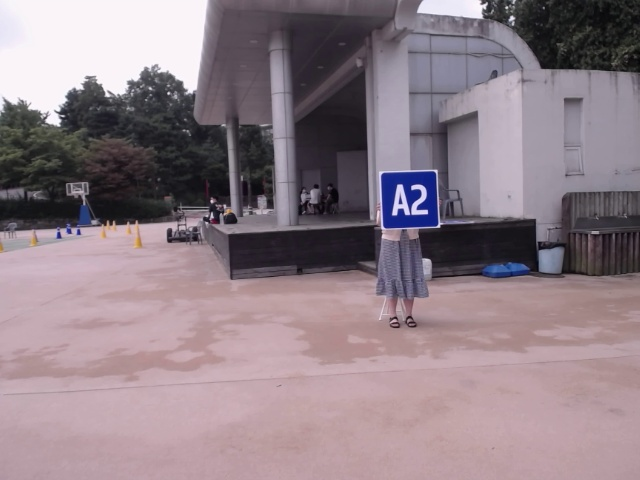delivery_a2: (380, 171, 439, 229)
